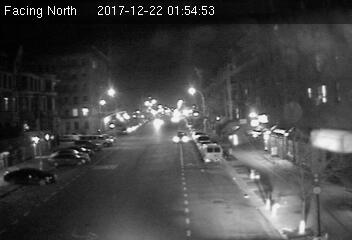car: (172, 132, 189, 145)
truck: (201, 143, 222, 164)
